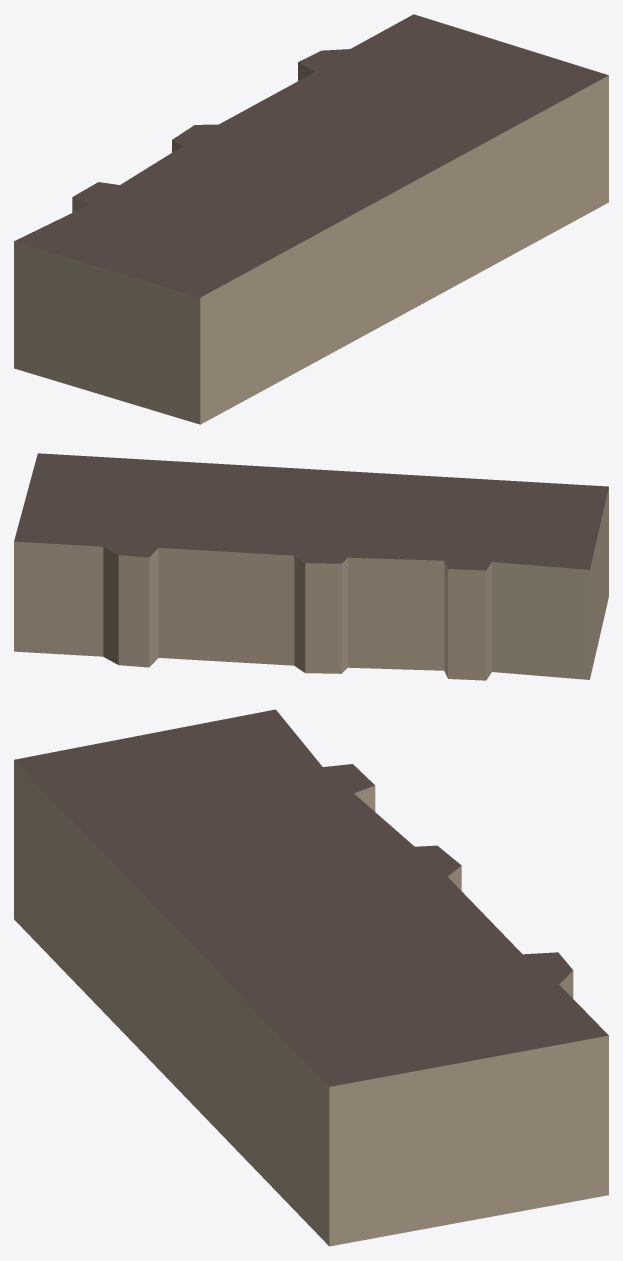
3 views of the same model, one above another, from view 1: azimuth 30°, elevation 25°; view 2: azimuth 150°, elevation 25°; view 3: azimuth 270°, elevation 25° (orthographic). The views are drawn at different scales.
Parts seen in each view (by area): view 1: HP-w1515076966; view 2: HP-w1515076966; view 3: HP-w1515076966.
Part boxes in pixels (box(x1,y1,x2,y2)): HP-w1515076966: box(14, 14, 608, 424); HP-w1515076966: box(14, 453, 608, 680); HP-w1515076966: box(14, 709, 608, 1246).
Size of the model in its own units: 45.66 by 9 by 30.41.
